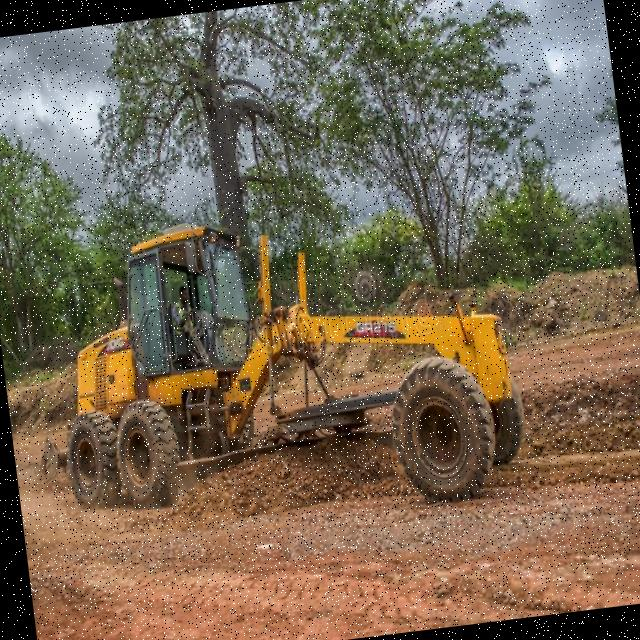Grader: (21, 157, 566, 565)
